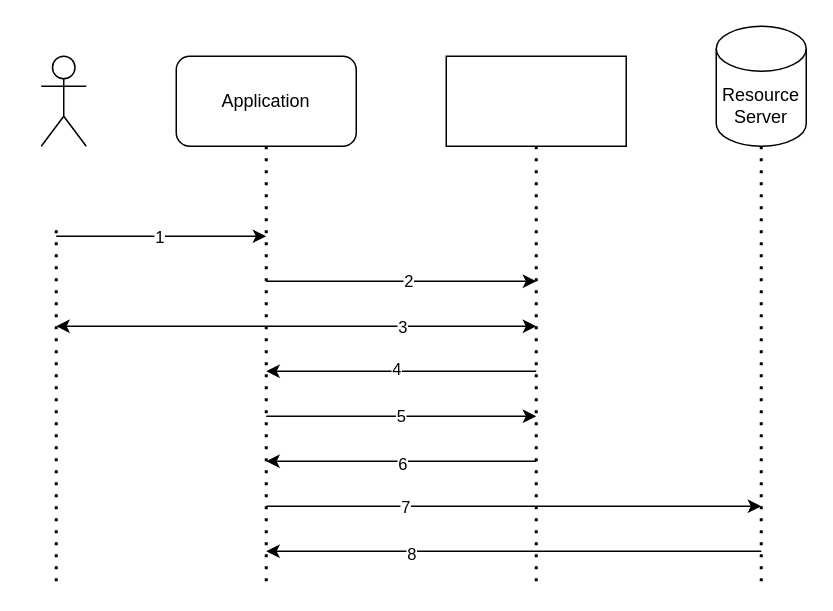
This 833x611 diagram has some shape labels left out. The box of each missing label's shape, as (x1, y1, x2, y2) in pixels:
Authorization Server: (445, 55, 626, 146)
Resource owner: (40, 55, 86, 146)
